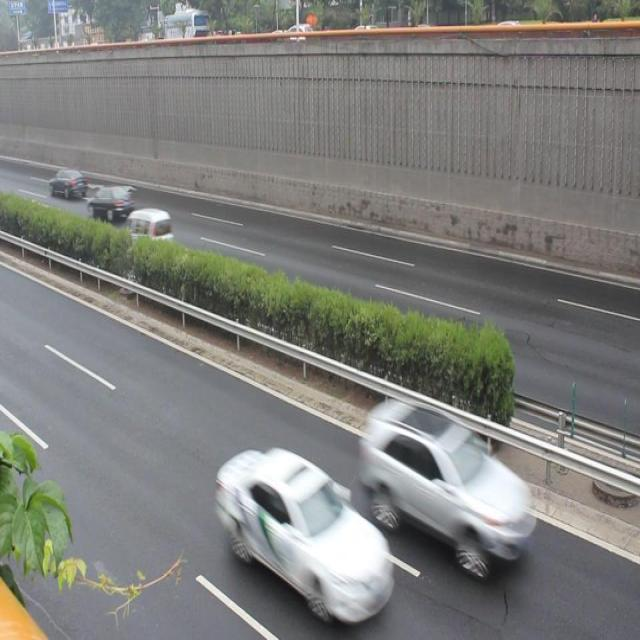car: (207, 438, 389, 640), (355, 392, 545, 579), (88, 180, 135, 224)
truck: (124, 198, 171, 259)
